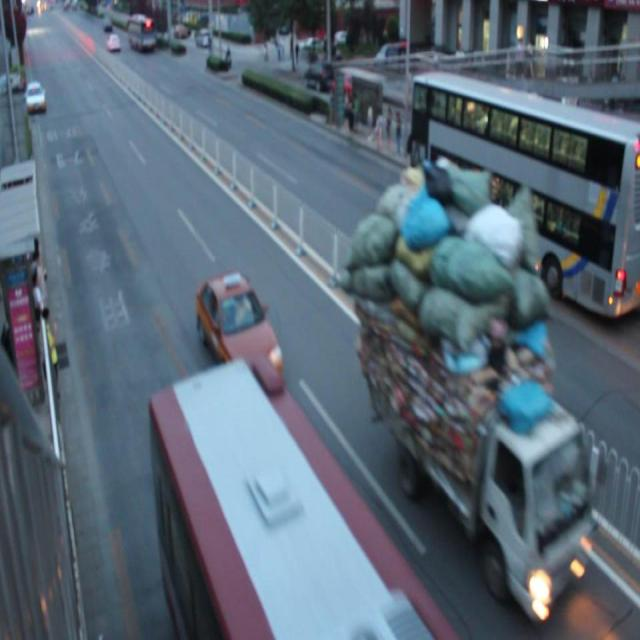bus: (375, 160, 590, 606)
car: (196, 271, 284, 387)
van: (149, 368, 458, 640), (410, 72, 640, 316)
